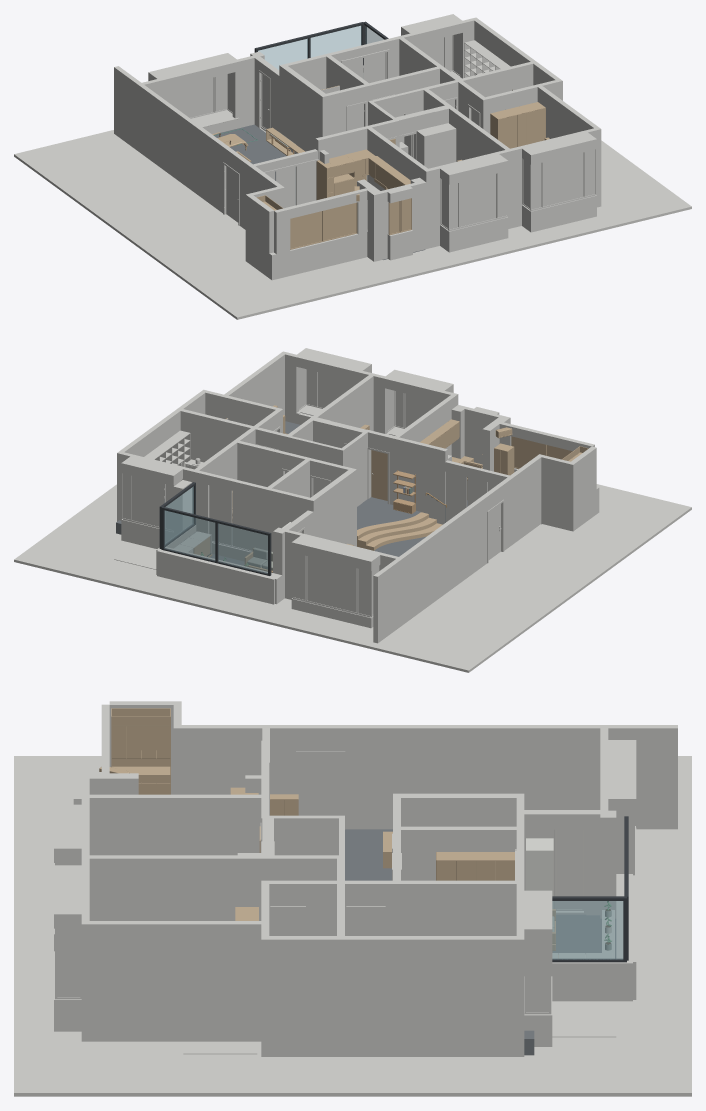
File: interaction_proxy.glb
The picture shows the model from 3 angles, top to bottom: view 1: azimuth 30°, elevation 25°; view 2: azimuth 150°, elevation 25°; view 3: azimuth 270°, elevation 25°; orthographic projection. The views are drawn at different scales.
Parts seen in each view (by area): view 1: SITE_GROUND.001, VIEW_WALL_W_wall_md_0006.001, VIEW_WALL_LIVING_FIX_GUEST_BATH_FULL_WALL.001, VIEW_WALL_W_wall_md_0042.001, VIEW_WALL_W_wall_md_0035.001, V4_W-MB-S_FRONT_GLASS_1.001, VIEW_WALL_W_wall_md_0034.001, V4_W-SMB-S_FRONT_GLASS_1.001, VIEW_WALL_W_wall_md_0007.001, VIEW_WALL_W_wall_md_0021.001, VIEW_WALL_W_wall_md_0030.001, VIEW_WALL_W_wall_md_0060.001 (+45 smaller); view 2: SITE_GROUND.001, VIEW_WALL_W_wall_md_0006.001, VIEW_WALL_W_wall_md_0062.001, VIEW_WALL_W_wall_md_0005.001, VIEW_WALL_W_wall_md_0044.001, VIEW_WALL_W_wall_md_0055.001, VIEW_WALL_W_wall_md_0043.001, VIEW_WALL_LIVING_FIX_GUEST_BATH_FULL_WALL.001, LIVING_FIX_BAY_FRONT_GLASS_1.001, VIEW_WALL_W_wall_md_0049.001, NORTH_BALCONY_GLASS_NORTH_B.001, VIEW_WALL_W_wall_md_0007.001 (+53 smaller); view 3: SITE_GROUND.001, VIEW_WALL_W_wall_md_0030.001, VIEW_WALL_W_wall_md_0033.001, VIEW_WALL_W_wall_md_0006.001, VIEW_WALL_W_wall_md_0021.001, VIEW_WALL_W_wall_md_0015.001, VIEW_WALL_W_wall_md_0032.001, VIEW_WALL_W_wall_md_0005.001, VIEW_WALL_W_wall_md_0025.001, VIEW_WALL_W_wall_md_0007.001, NORTH_BALCONY_GLASS_EAST.001, VIEW_WALL_W_wall_md_0019.001 (+39 smaller).
Boxes of the visible parts, x1,y1,x2,y2 form: SITE_GROUND.001: (14,128,691,319); VIEW_WALL_W_wall_md_0006.001: (139,85,227,212); VIEW_WALL_LIVING_FIX_GUEST_BATH_FULL_WALL.001: (282,66,325,153); VIEW_WALL_W_wall_md_0042.001: (276,232,367,278); VIEW_WALL_W_wall_md_0035.001: (533,139,594,231); V4_W-MB-S_FRONT_GLASS_1.001: (543,152,583,206); VIEW_WALL_W_wall_md_0034.001: (451,161,505,251); V4_W-SMB-S_FRONT_GLASS_1.001: (460,174,496,226); VIEW_WALL_W_wall_md_0007.001: (114,66,141,150); VIEW_WALL_W_wall_md_0021.001: (449,107,509,161); VIEW_WALL_W_wall_md_0030.001: (537,86,598,138); VIEW_WALL_W_wall_md_0060.001: (232,55,254,128); SITE_GROUND.001: (14,484,691,672); VIEW_WALL_W_wall_md_0006.001: (399,495,487,624); VIEW_WALL_W_wall_md_0062.001: (157,547,277,604); VIEW_WALL_W_wall_md_0005.001: (499,456,541,550); VIEW_WALL_W_wall_md_0044.001: (396,437,441,523); VIEW_WALL_W_wall_md_0055.001: (196,470,266,561); VIEW_WALL_W_wall_md_0043.001: (541,455,575,531); VIEW_WALL_LIVING_FIX_GUEST_BATH_FULL_WALL.001: (311,470,354,545); LIVING_FIX_BAY_FRONT_GLASS_1.001: (307,556,356,612); VIEW_WALL_W_wall_md_0049.001: (180,409,253,462); NORTH_BALCONY_GLASS_NORTH_B.001: (164,510,215,560); VIEW_WALL_W_wall_md_0007.001: (373,559,400,643); SITE_GROUND.001: (14,756,691,1096); VIEW_WALL_W_wall_md_0030.001: (89,921,261,1041); VIEW_WALL_W_wall_md_0033.001: (345,936,516,1056); VIEW_WALL_W_wall_md_0006.001: (345,725,600,829); VIEW_WALL_W_wall_md_0021.001: (89,855,261,920); VIEW_WALL_W_wall_md_0015.001: (89,794,261,855); VIEW_WALL_W_wall_md_0032.001: (261,936,336,1056); VIEW_WALL_W_wall_md_0005.001: (181,725,296,794); VIEW_WALL_W_wall_md_0025.001: (401,880,516,935); VIEW_WALL_W_wall_md_0007.001: (608,725,677,829); NORTH_BALCONY_GLASS_EAST.001: (552,901,623,959); VIEW_WALL_W_wall_md_0019.001: (401,826,516,880).
Bounding box in the file's own units: 20 × 3.37 × 17.
